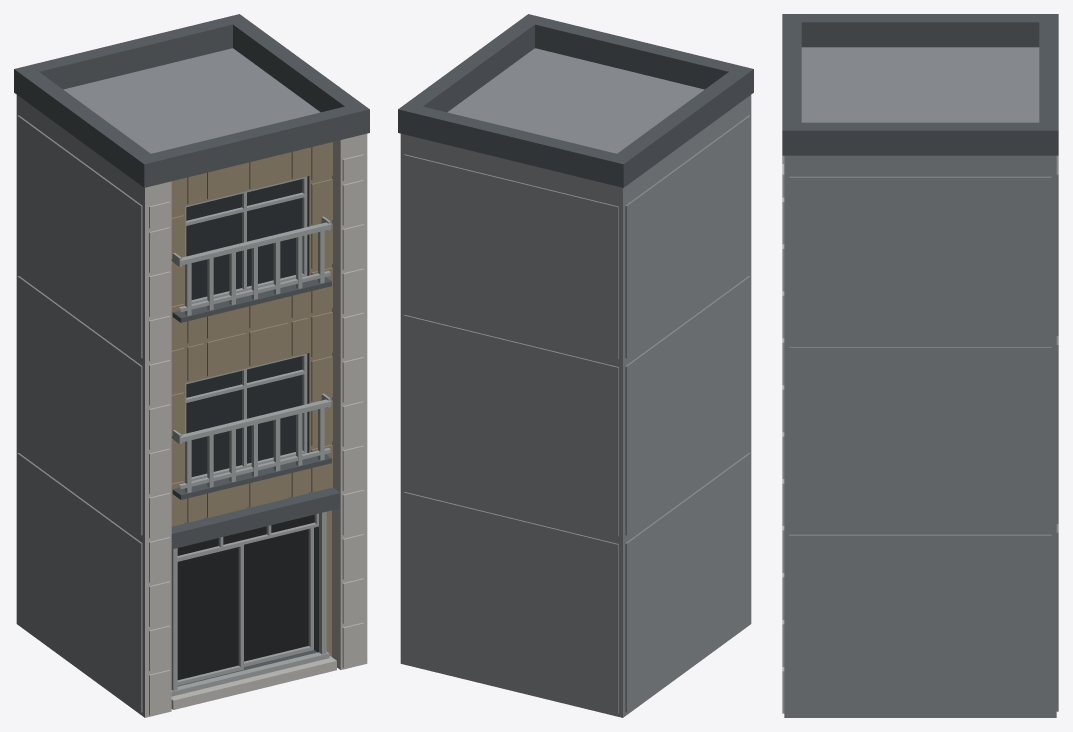
Rendered from three-storey-shophouse-2f6378-preview.glb.
3 views of the same model, side by side, from view 1: azimuth 30°, elevation 25°; view 2: azimuth 150°, elevation 25°; view 3: azimuth 270°, elevation 25° (orthographic). The views are drawn at different scales.
Parts seen in each view (by area): view 1: object 1, shop-door; view 2: object 1; view 3: object 1.
Boxes of the visible parts, box(x1,y1,x2,y2) form: object 1: box(14, 14, 369, 717); shop-door: box(177, 545, 243, 685); object 1: box(398, 14, 753, 717); object 1: box(782, 14, 1058, 717).
Size of the model in its own units: 4 by 9.4 by 4.
